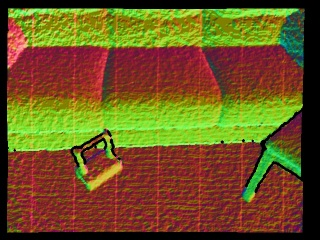station: (71, 129, 125, 194)
